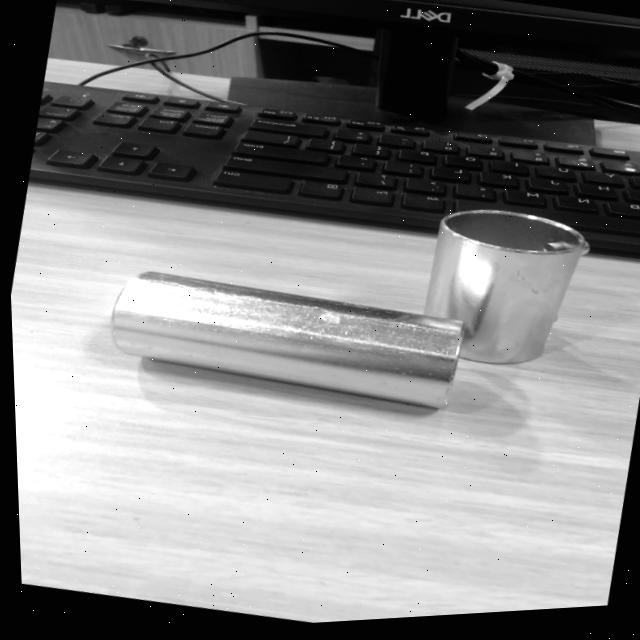Co_Lon: (105, 264, 464, 410)
Co_Nho: (414, 197, 592, 378)
